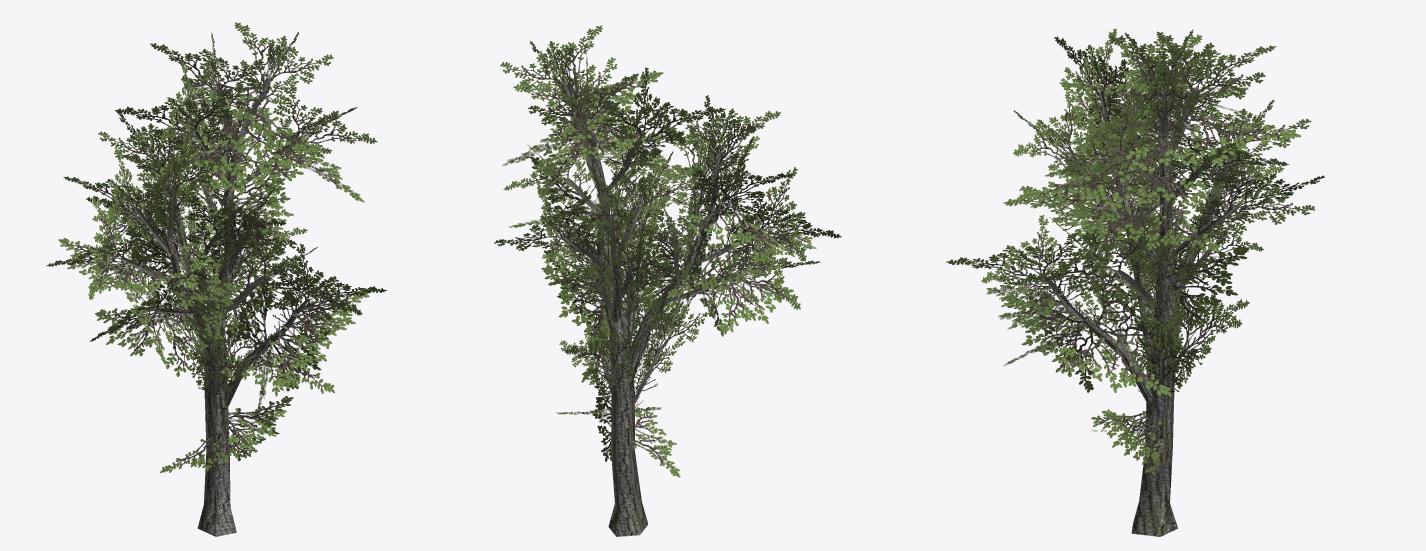
The model's file is flora_tree_elm_v4.glb.
The picture shows the model from 3 angles, left to right: view 1: azimuth 30°, elevation 25°; view 2: azimuth 150°, elevation 25°; view 3: azimuth 270°, elevation 25°; orthographic projection. The views are drawn at different scales.
Visible parts, largest first — view 1: flora_tree_elm_v4_part0; view 2: flora_tree_elm_v4_part0; view 3: flora_tree_elm_v4_part0.
Boxes of the visible parts, x1,y1,x2,y2 form: flora_tree_elm_v4_part0: (46, 22, 386, 536); flora_tree_elm_v4_part0: (494, 25, 841, 536); flora_tree_elm_v4_part0: (946, 28, 1324, 536).
Bounding box in the file's own units: 20.76 × 26.26 × 23.65.
1 material, 1 textured.
